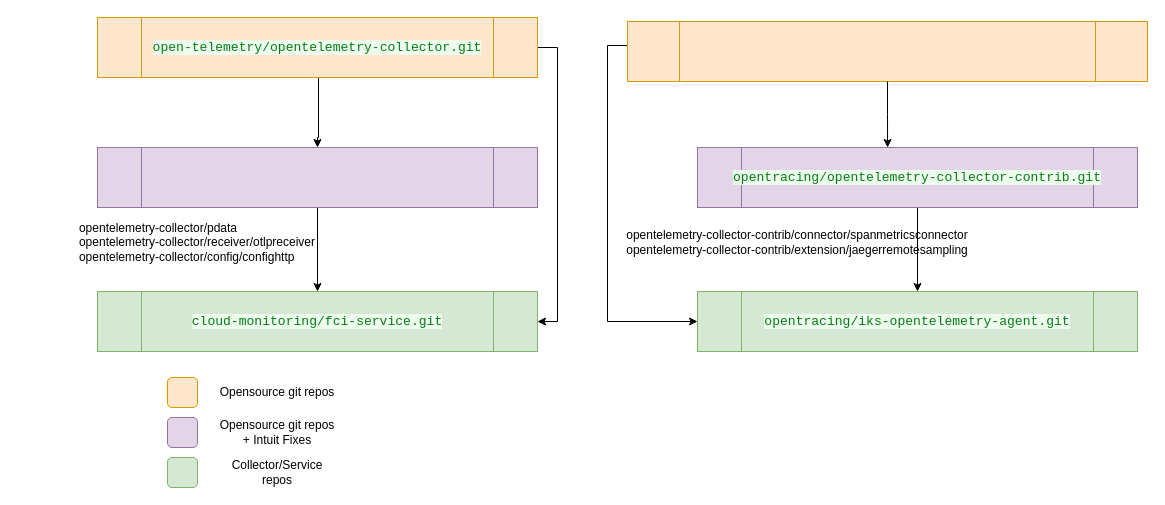
The diagram is 1165 pixels wide and 505 high, and some of its shapes have lost their labels. Each missing label, with the centre of its shape:
"open-telemetry/opentelemetry-collector-contrib.git" goes at point (887, 51).
"opentracing/opentelemetry-collector.git" goes at point (317, 177).
